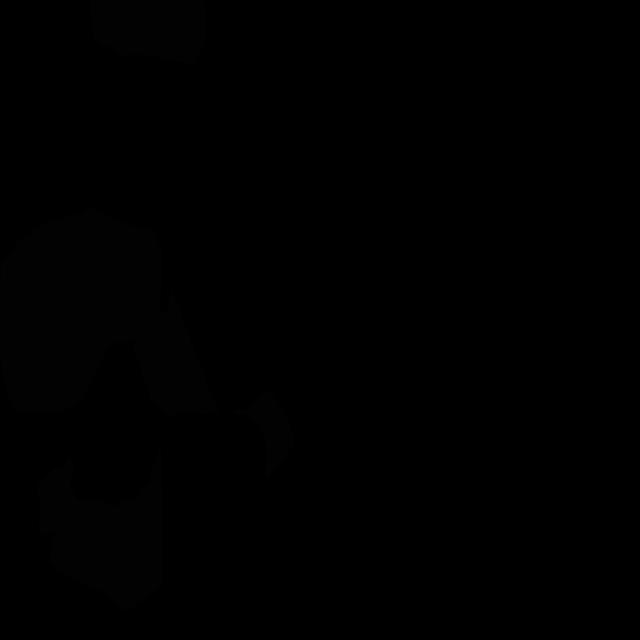cardboard: (0, 208, 162, 413), (37, 444, 163, 609), (133, 289, 220, 417), (90, 0, 205, 65), (232, 389, 295, 480)
